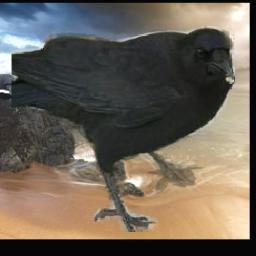Crow: (13, 27, 236, 233), (0, 73, 20, 114)
